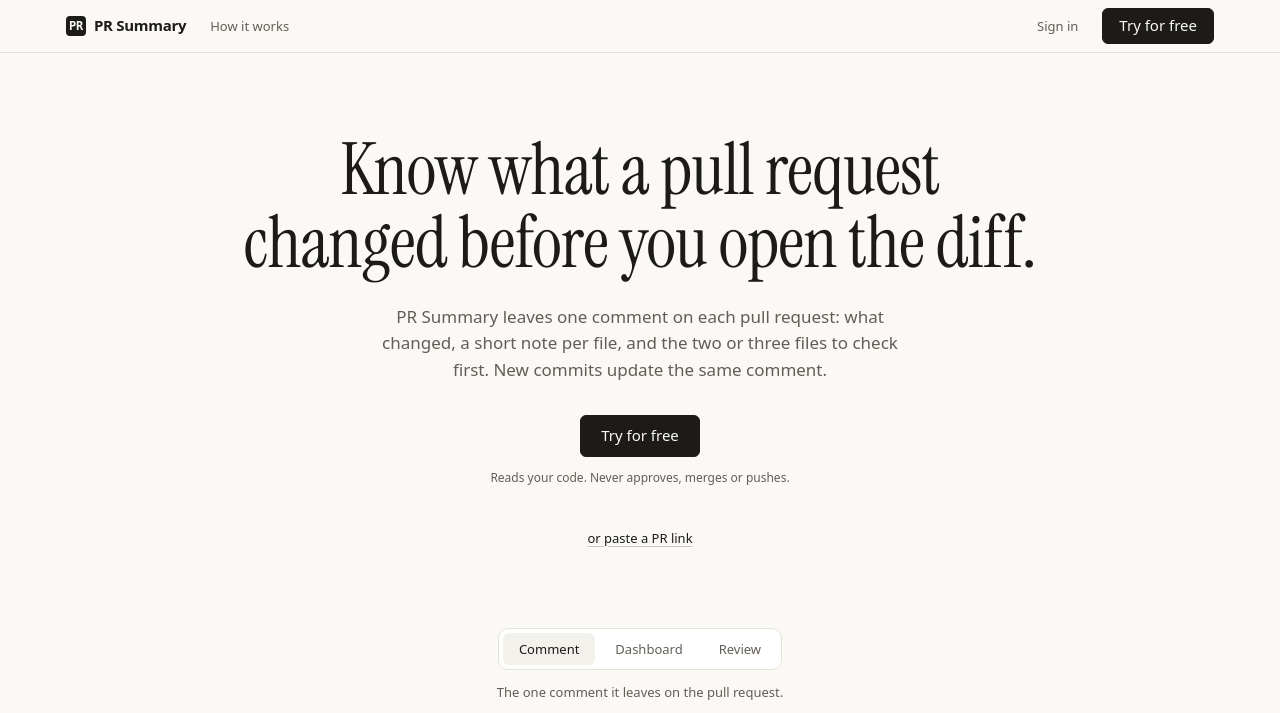
Landing page › switches the preview tabs
Click the tab "Dashboard" at [649, 649], box [599,633,699,665]
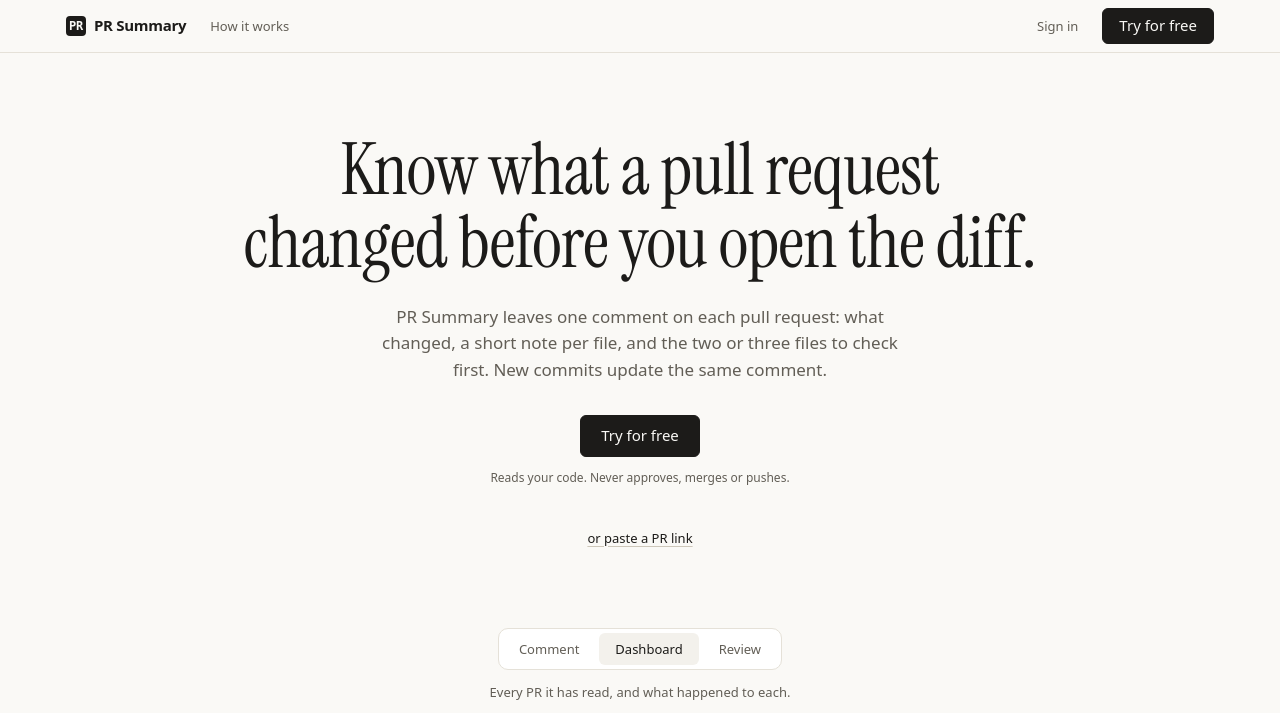
Now the tab "Dashboard" is selected, box [599,633,699,665]
Click the tab "Review" at [740, 649], box [703,633,777,665]
(page scrolled)
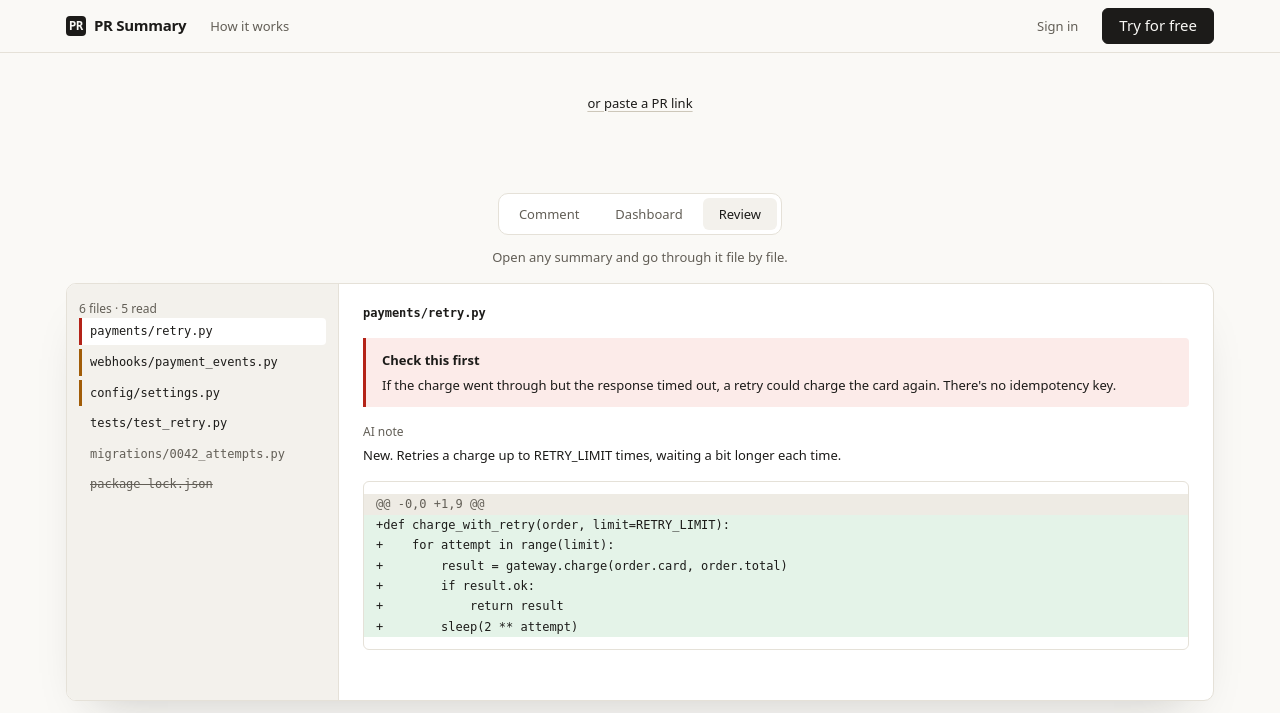
Now the text "Check this first" is shown, box [382,351,480,369]
